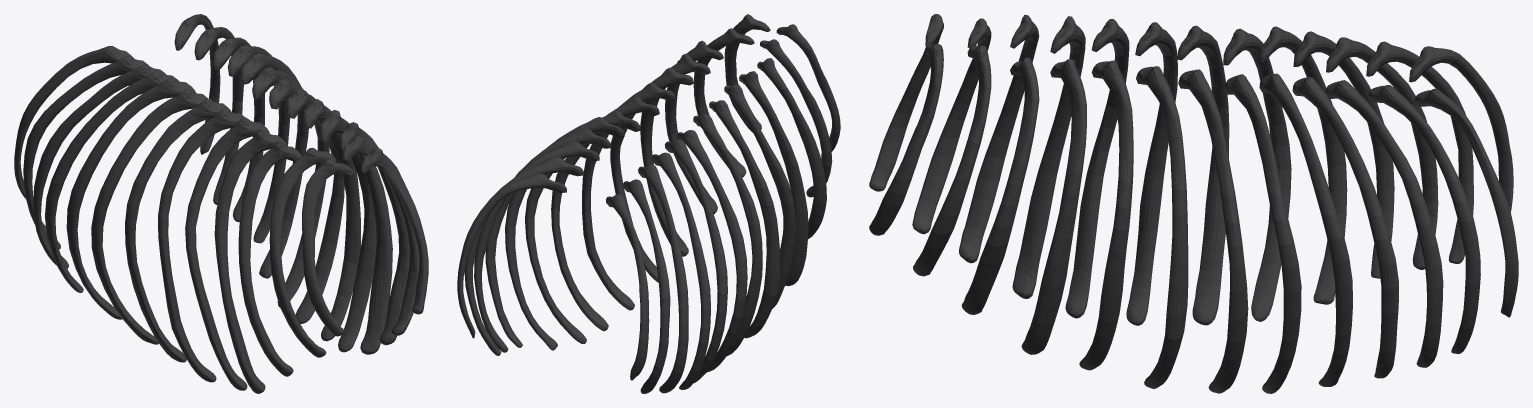
File: 23_2_24_rib_cage_skin_resized_LP_2.glb
3 views of the same model, side by side, from view 1: azimuth 30°, elevation 25°; view 2: azimuth 150°, elevation 25°; view 3: azimuth 270°, elevation 25° (orthographic). The views are drawn at different scales.
Parts seen in each view (by area): view 1: 23_2_24_rib_cage_skin_resized_LP_2; view 2: 23_2_24_rib_cage_skin_resized_LP_2; view 3: 23_2_24_rib_cage_skin_resized_LP_2.
Part boxes in pixels (<box>): 23_2_24_rib_cage_skin_resized_LP_2: <box>14,14,428,393</box>; 23_2_24_rib_cage_skin_resized_LP_2: <box>457,14,840,393</box>; 23_2_24_rib_cage_skin_resized_LP_2: <box>869,14,1518,393</box>.
Size of the model in its own units: 50.05 by 54.29 by 96.65.
1 material, 1 textured.
